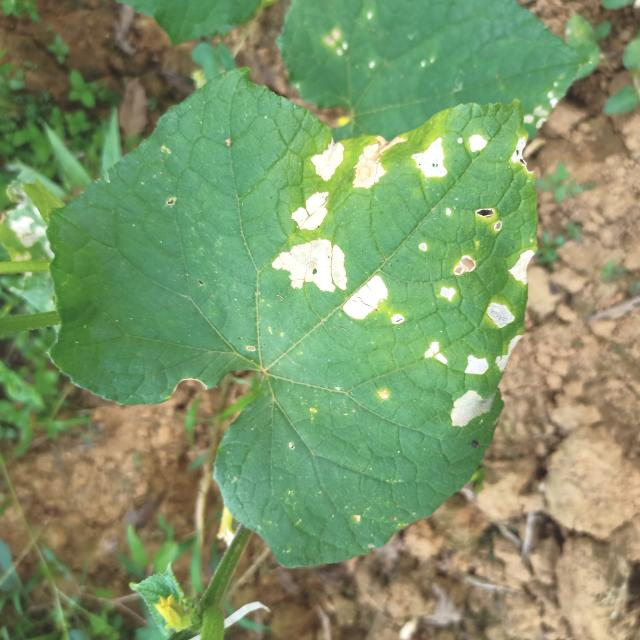disease_cucumber: (272, 237, 389, 317), (313, 138, 390, 190), (412, 133, 489, 178), (449, 354, 495, 429), (439, 251, 477, 302), (293, 186, 327, 232), (508, 245, 532, 289), (496, 339, 522, 372), (488, 303, 515, 329), (420, 342, 449, 364)
